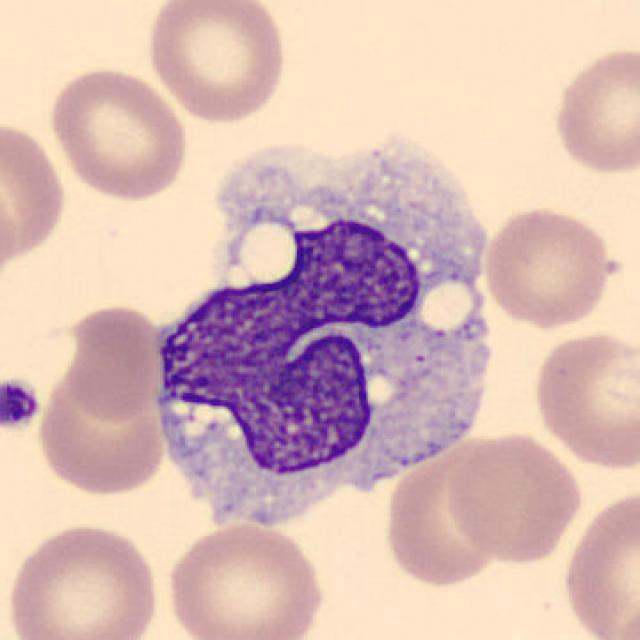Monocyte: (140, 130, 512, 530)
Platelets: (0, 375, 44, 431)
RBC: (380, 432, 510, 592), (32, 348, 167, 502), (44, 63, 190, 203), (162, 520, 327, 640), (443, 428, 585, 566), (3, 520, 164, 640), (142, 0, 290, 125), (478, 202, 617, 330), (530, 326, 638, 473), (61, 302, 167, 423), (558, 485, 638, 640), (548, 42, 638, 178), (0, 114, 69, 273), (0, 171, 20, 294)
